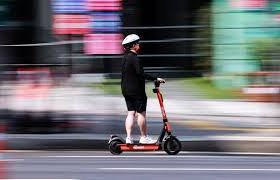helmet: (106, 31, 181, 157)
